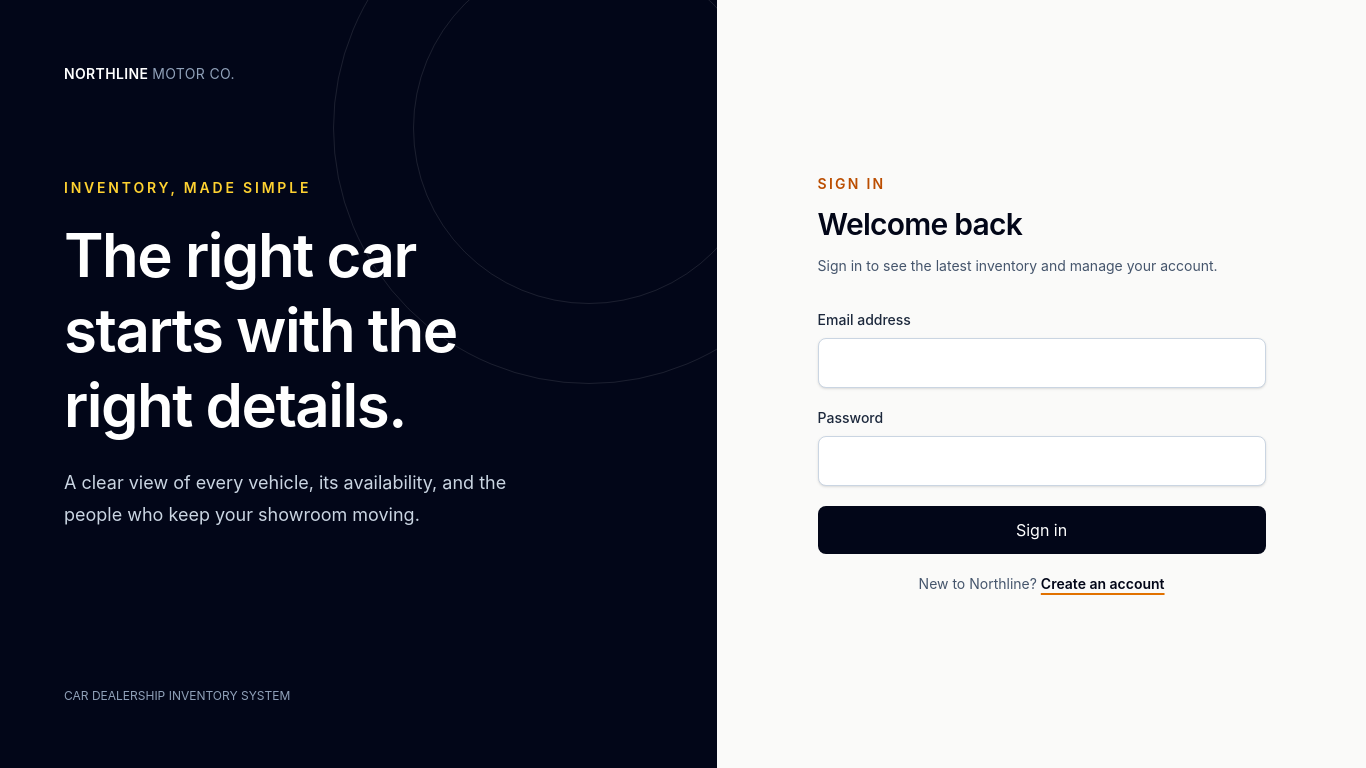
Test case: dealership application › logs in and explains invalid credentials without navigating away
Type "wrong@example.test" into the field labelled "Email address" at [1042, 363], box [818, 338, 1266, 388]
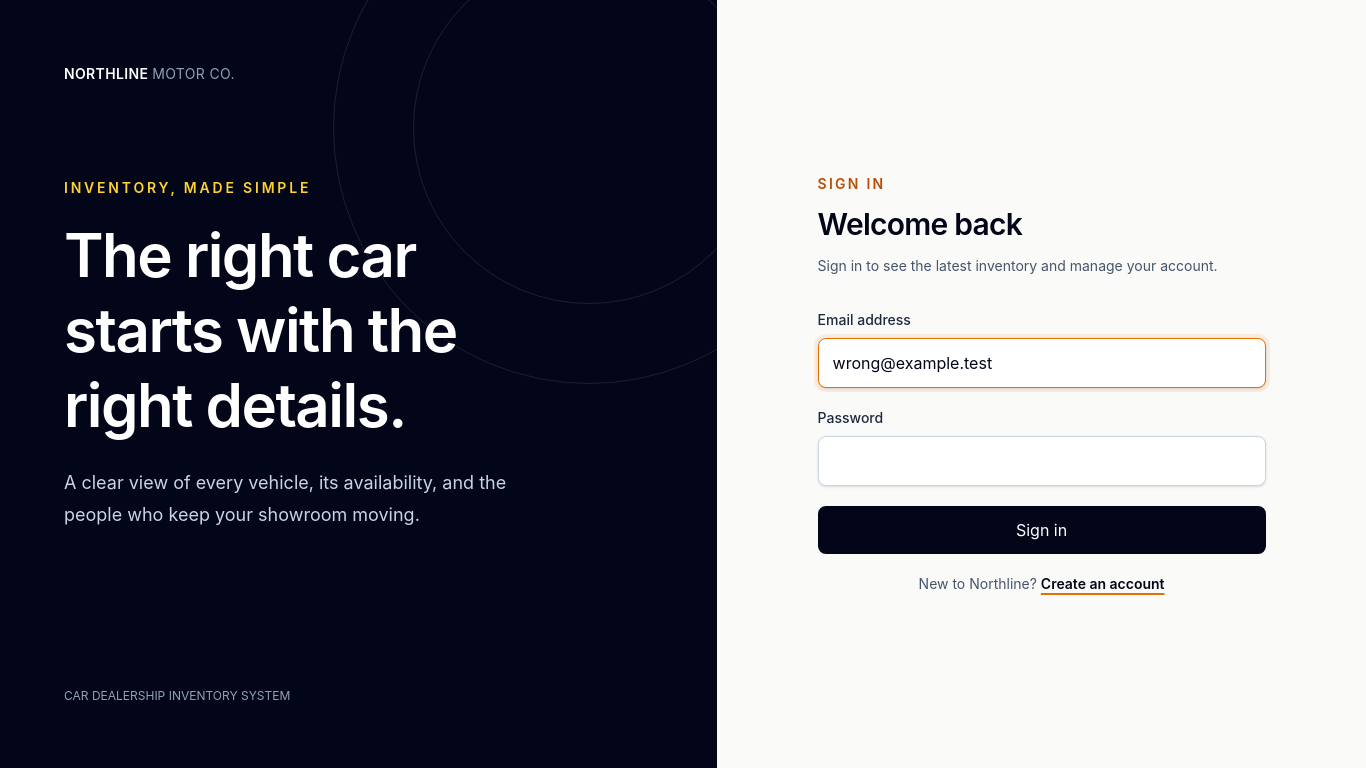
Type "incorrect-password" into the password field labelled "Password" at [1042, 461], box [818, 436, 1266, 486]
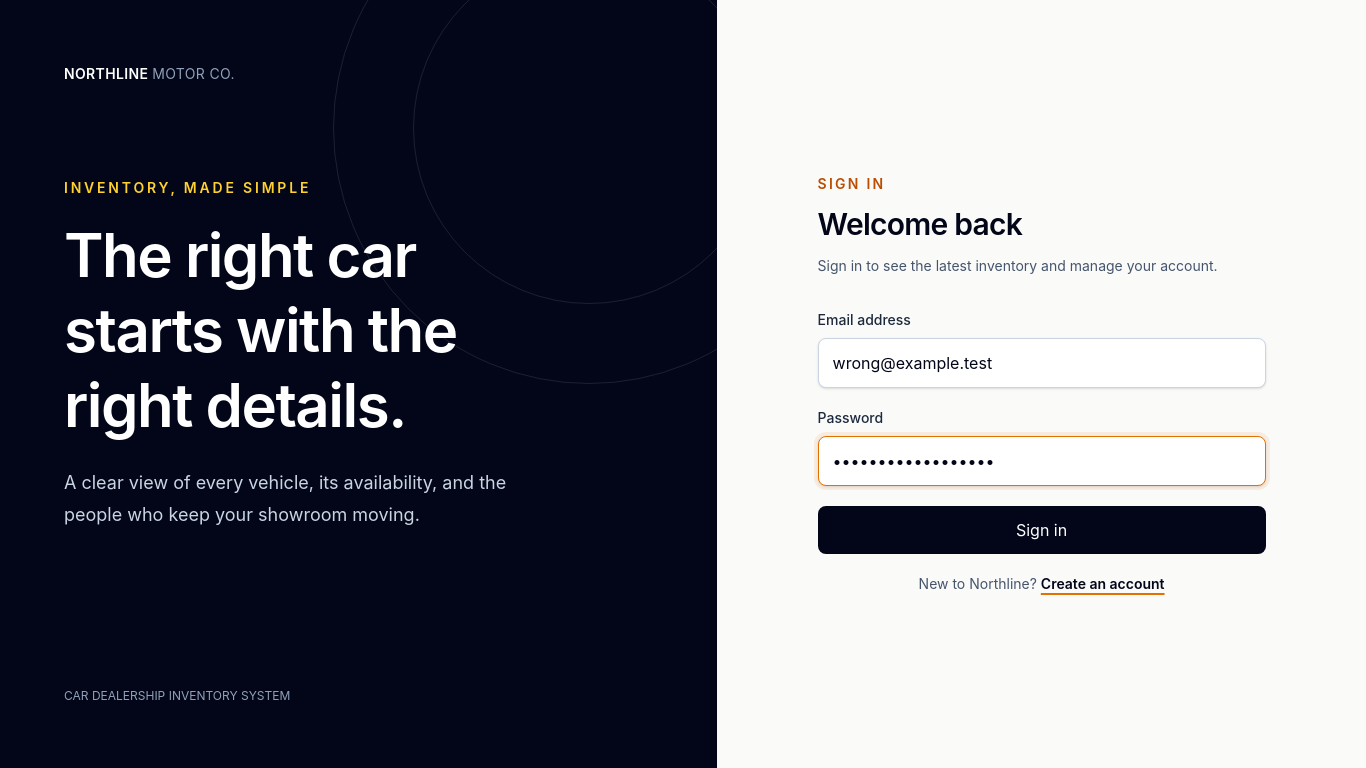
Click the button "Sign in" at [1042, 530], box [818, 506, 1266, 554]
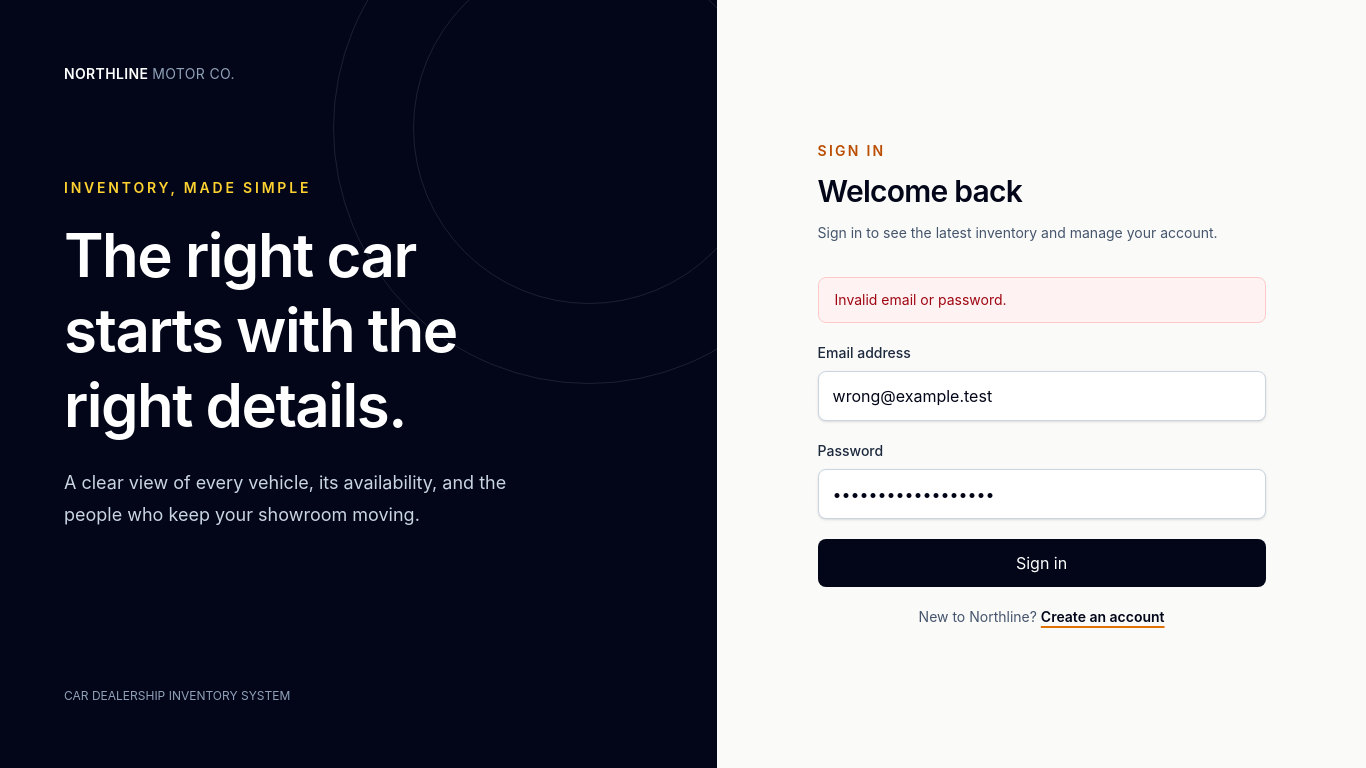
Check: the heading "Welcome back" is shown, box [818, 173, 1022, 209]
Check: the message reads "Invalid email or password.", box [835, 291, 1007, 308]
